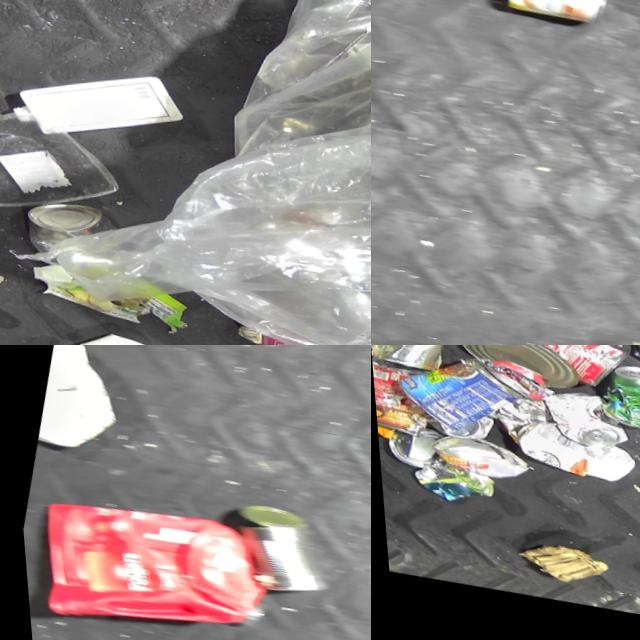can: (376, 345, 525, 449), (216, 497, 335, 603), (9, 194, 118, 282), (481, 345, 627, 403), (525, 383, 630, 460), (441, 345, 579, 401), (417, 426, 526, 490), (371, 352, 431, 441), (496, 0, 611, 41), (586, 360, 640, 438), (374, 419, 439, 475), (418, 404, 489, 448), (371, 345, 455, 380), (562, 345, 635, 357)
milk_jug: (0, 45, 187, 173), (24, 345, 137, 464)
non_white_jug: (15, 475, 292, 640)
